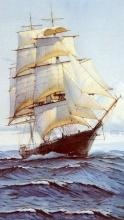fanchuan: (6, 14, 122, 165)
